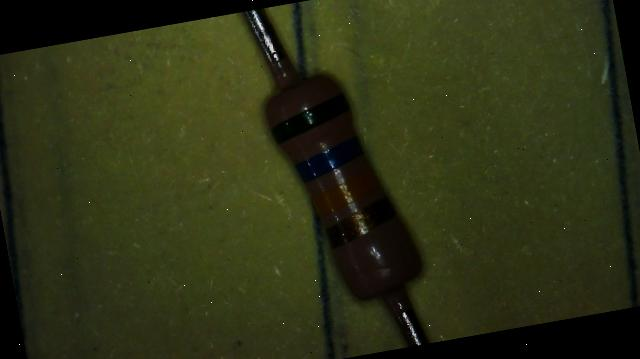blue: (294, 136, 366, 182)
gold: (323, 195, 400, 248)
green: (267, 92, 354, 144)
resistor: (224, 39, 456, 346)
yellow: (309, 168, 384, 216)
